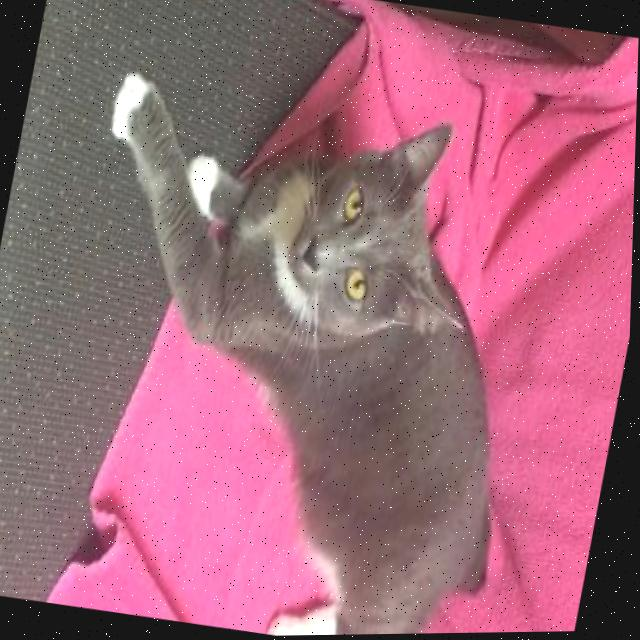American Bobtail: (19, 58, 579, 640)
